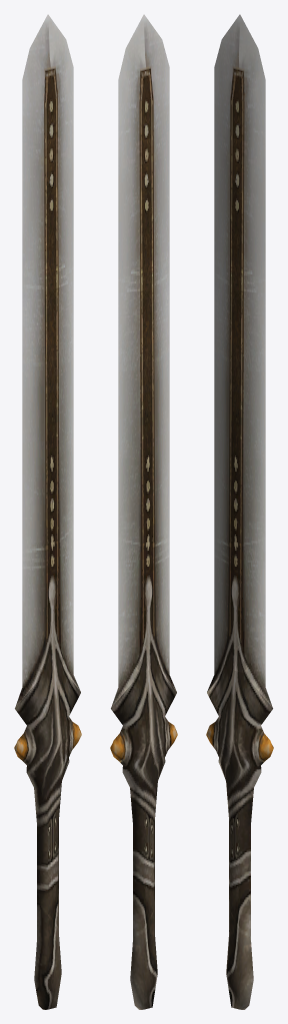
File: rank_kkum_2_W.glb
The picture shows the model from 3 angles, left to right: view 1: azimuth 30°, elevation 25°; view 2: azimuth 210°, elevation 25°; view 3: azimuth 330°, elevation 25°; orthographic projection.
Parts seen in each view (by area): view 1: weapon; view 2: weapon; view 3: weapon.
Part boxes in pixels (<box>): weapon: <box>14,14,81,1009</box>; weapon: <box>110,14,177,1009</box>; weapon: <box>206,14,273,1009</box>.
Size of the model in its own units: 1.36 by 19.38 by 0.7037.
1 material, 1 textured.
